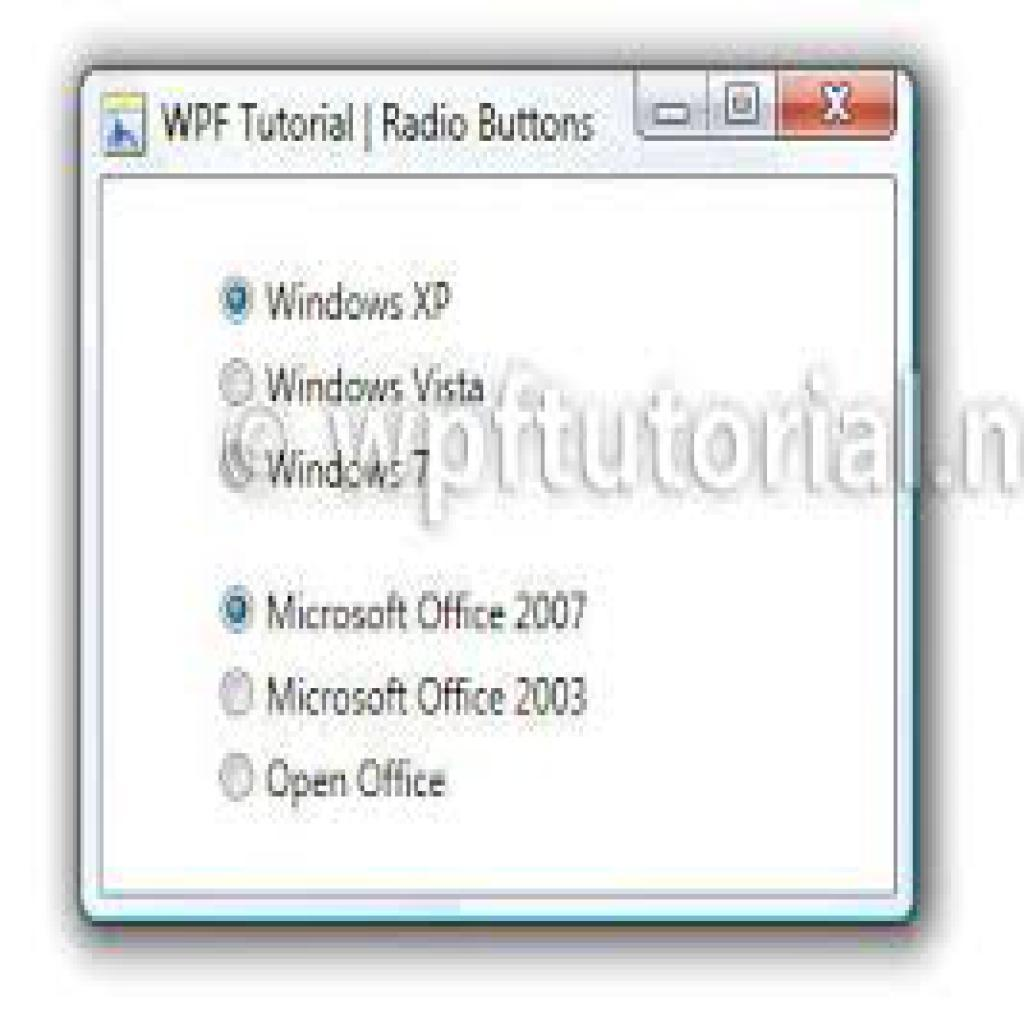radio: (211, 268, 263, 329), (217, 658, 263, 721), (216, 576, 260, 639), (217, 352, 257, 413), (215, 751, 258, 806)
